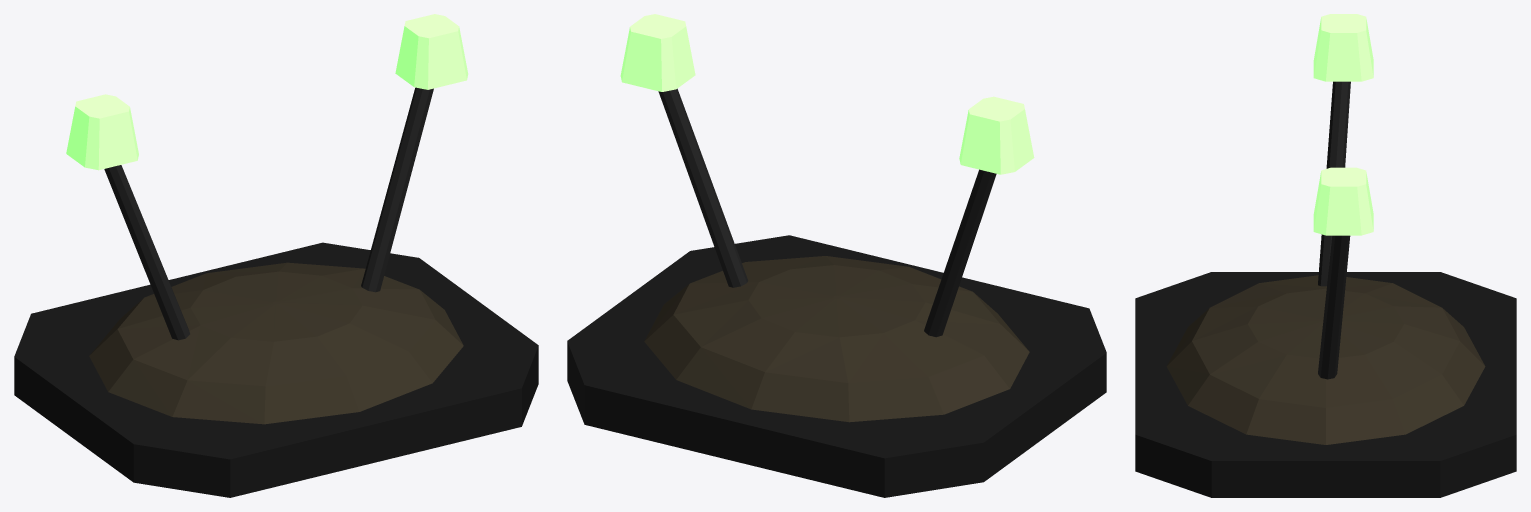
The model's file is antennae.glb.
The picture shows the model from 3 angles, left to right: view 1: azimuth 30°, elevation 25°; view 2: azimuth 150°, elevation 25°; view 3: azimuth 270°, elevation 25°; orthographic projection. The views are drawn at different scales.
Visible parts, largest first — view 1: Antenna Headband.001; view 2: Antenna Headband.001; view 3: Antenna Headband.001.
Boxes of the visible parts, x1,y1,x2,y2 form: Antenna Headband.001: (14,14,538,497); Antenna Headband.001: (567,14,1106,497); Antenna Headband.001: (1135,14,1516,497).
Bounding box in the file's own units: 0.6605 × 0.4931 × 0.5624.
